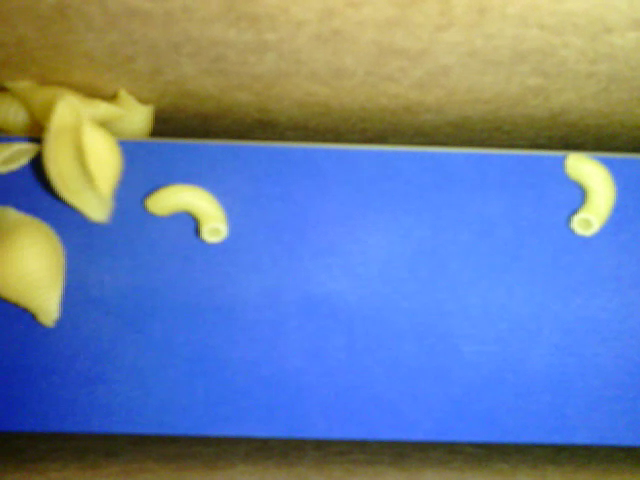elbow: (145, 183, 227, 245), (565, 148, 620, 238)
penne: (1, 140, 40, 179)
shell: (41, 93, 126, 225), (1, 195, 63, 330), (1, 79, 131, 143), (93, 88, 156, 141), (1, 88, 46, 138)
